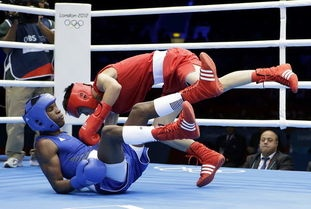falling: (27, 86, 217, 191)
